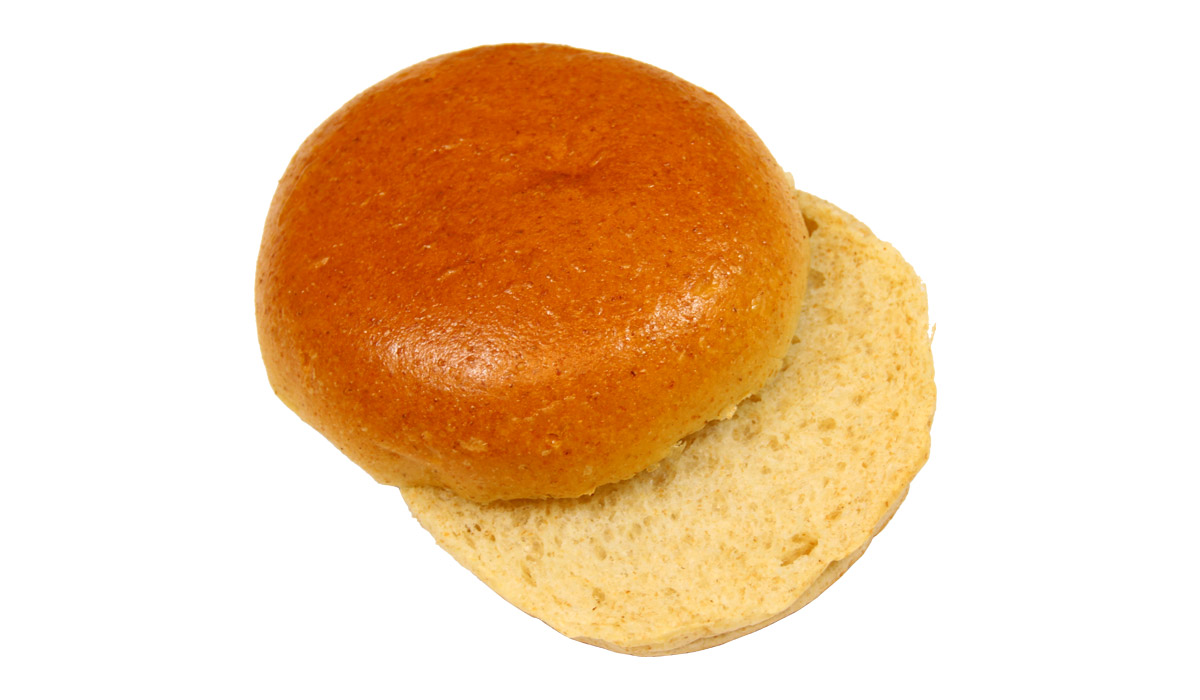hamburger_buns: (241, 22, 951, 663)
